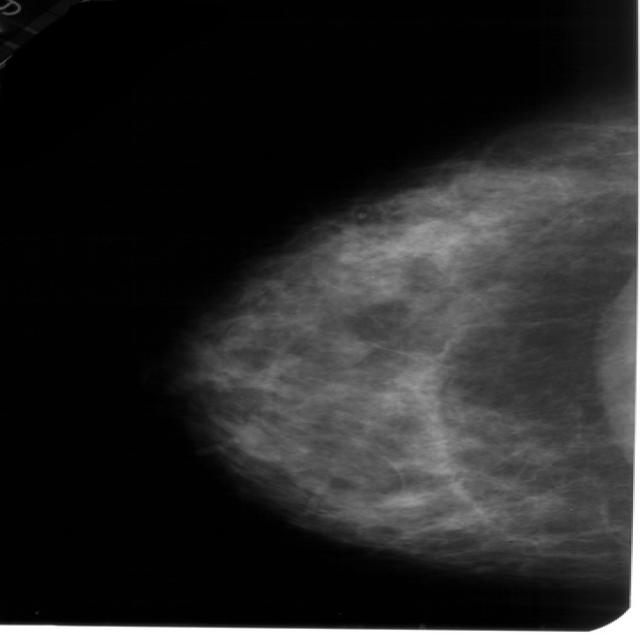tumour: (390, 218, 470, 251)
